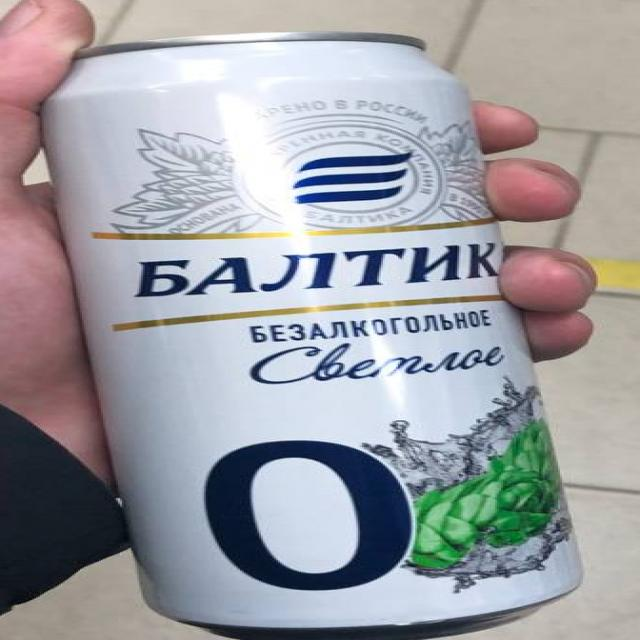Hoegaarden: (2, 0, 640, 640)
